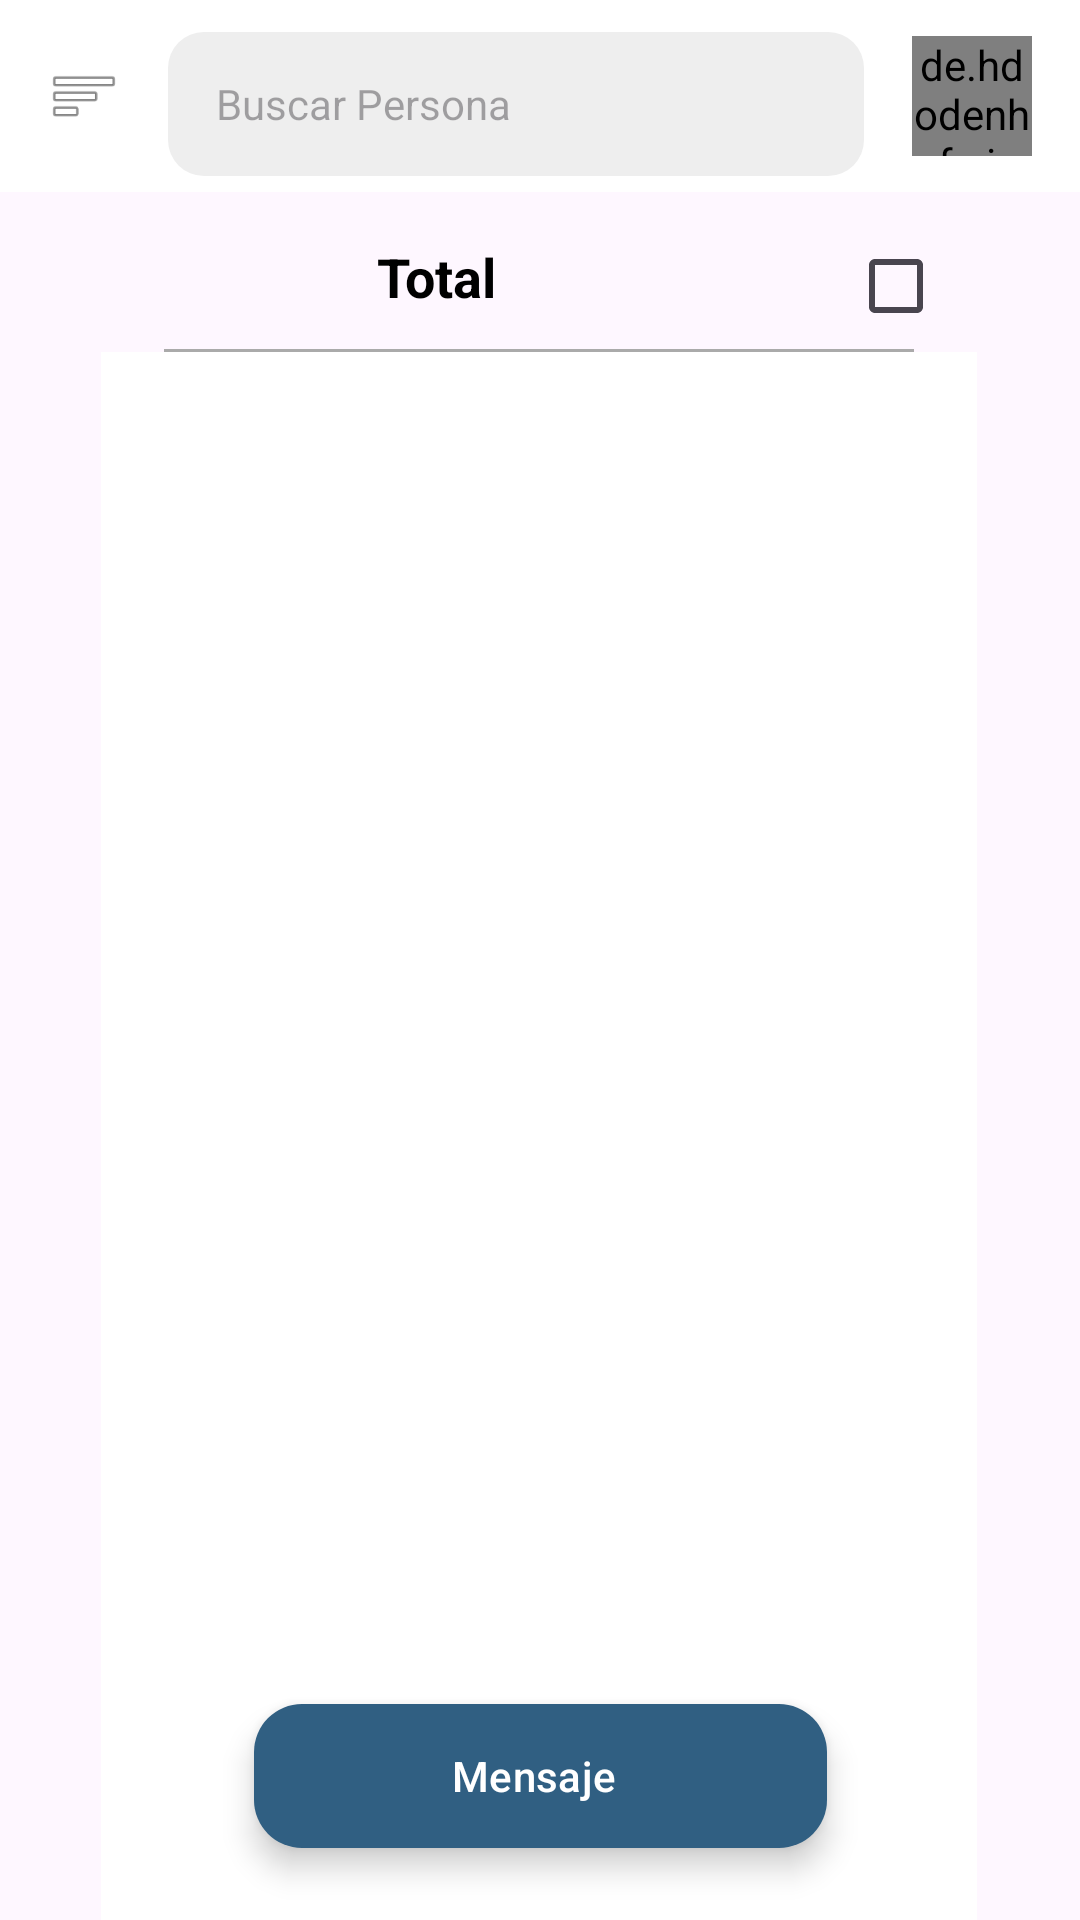

Icon bounding boxes for this 1080 x 1920 phone screenshot, format (x1, y1, x2, y2):
sort by size: (53, 76, 115, 117)
